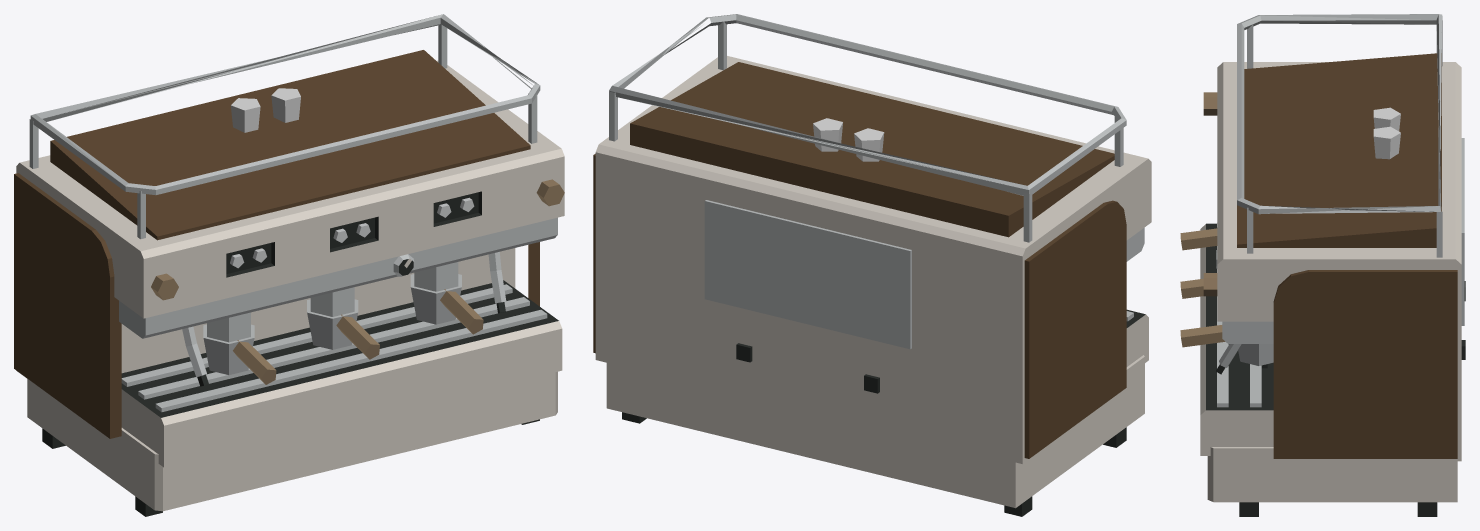
File: espresso-machine-a2db84-g3.glb
The picture shows the model from 3 angles, left to right: view 1: azimuth 30°, elevation 25°; view 2: azimuth 150°, elevation 25°; view 3: azimuth 270°, elevation 25°; orthographic projection. The views are drawn at different scales.
Visible parts, largest first — view 1: object 1, object 4, object 3, portafilter-a, steam-wand-l, steam-wand-r; view 2: object 1; view 3: object 1, object 4, portafilter-a, object 3, steam-wand-r.
Boxes of the visible parts, left/top/right/bottom form: object 1: left=14, top=14, right=564, bottom=516; object 4: left=410, top=274, right=483, bottom=334; object 3: left=307, top=299, right=379, bottom=359; portafilter-a: left=203, top=324, right=276, bottom=384; steam-wand-l: left=182, top=326, right=208, bottom=386; steam-wand-r: left=488, top=252, right=506, bottom=313; object 1: left=593, top=14, right=1151, bottom=516; object 1: left=1200, top=14, right=1465, bottom=516; object 4: left=1180, top=325, right=1273, bottom=368; portafilter-a: left=1180, top=228, right=1217, bottom=250; object 3: left=1180, top=278, right=1203, bottom=298; steam-wand-r: left=1216, top=344, right=1241, bottom=374.
Bounding box in the file's own units: 0.975 × 0.7121 × 0.5836.
